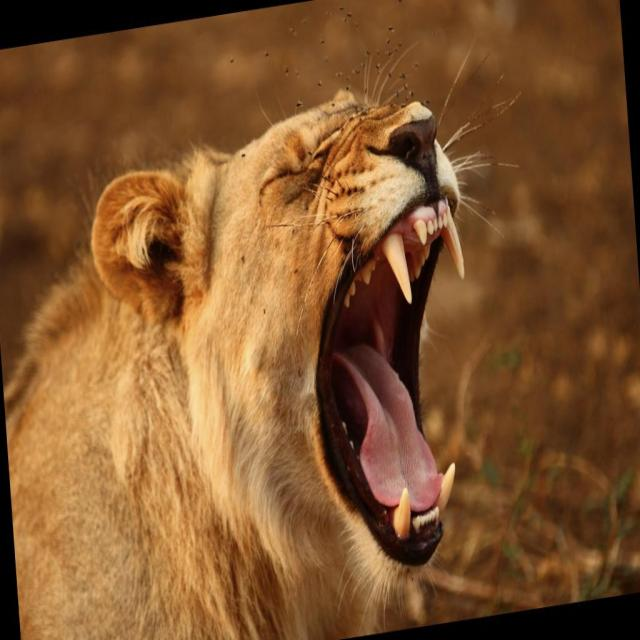Lion: (0, 25, 558, 639)
